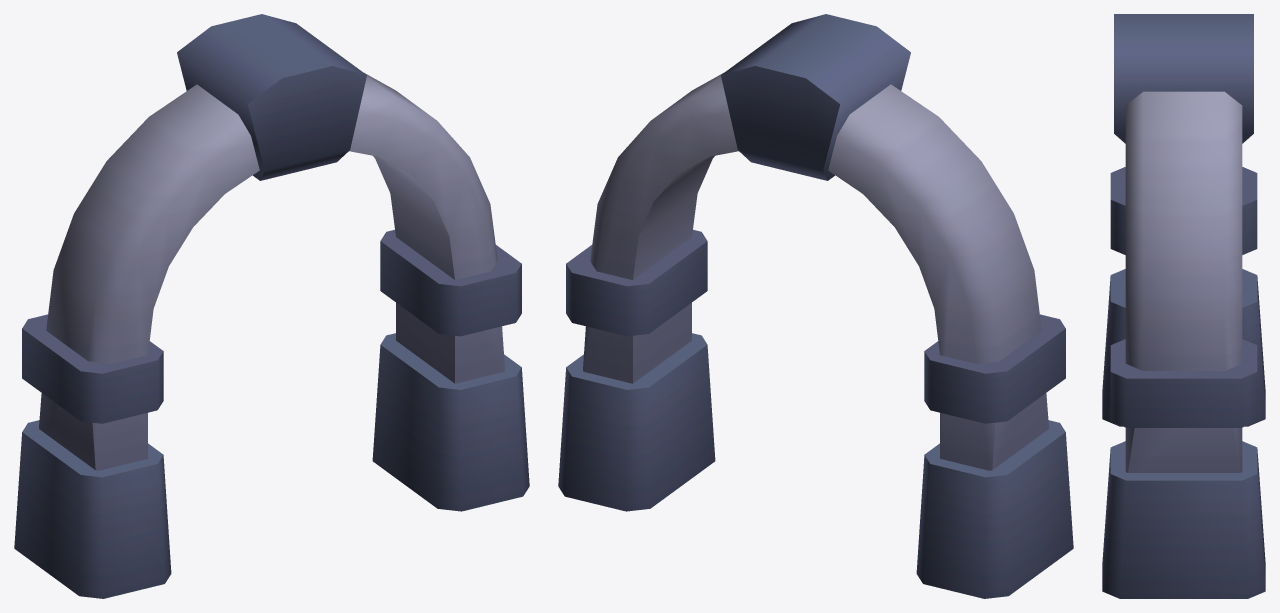
File: gate.glb
3 renders of one model, left to right at view 1: azimuth 30°, elevation 25°; view 2: azimuth 150°, elevation 25°; view 3: azimuth 270°, elevation 25°, orthographic.
Parts seen in each view (by area): view 1: gate4; view 2: gate4; view 3: gate4.
Part boxes in pixels (left/top/right/bottom): gate4: left=14, top=14, right=529, bottom=598; gate4: left=558, top=14, right=1073, bottom=598; gate4: left=1102, top=14, right=1265, bottom=598.
Bounding box in the file's own units: 4.4 × 4.4 × 1.4.
Materials: 1 (1 with a texture image).
